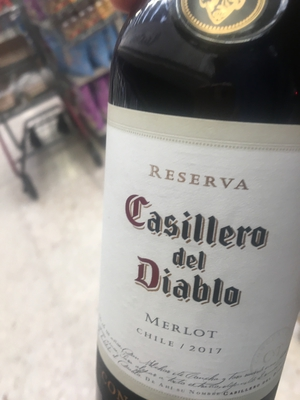casillero del diablo merlot: (77, 9, 300, 395)
